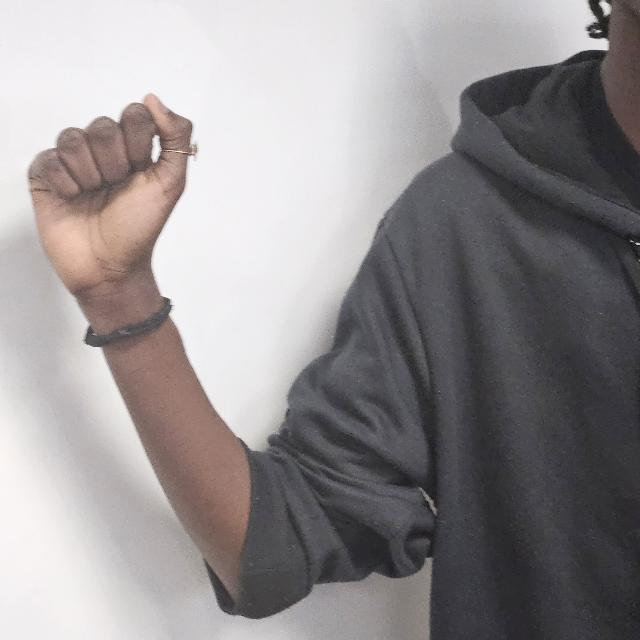Quadro: (31, 95, 196, 309)
